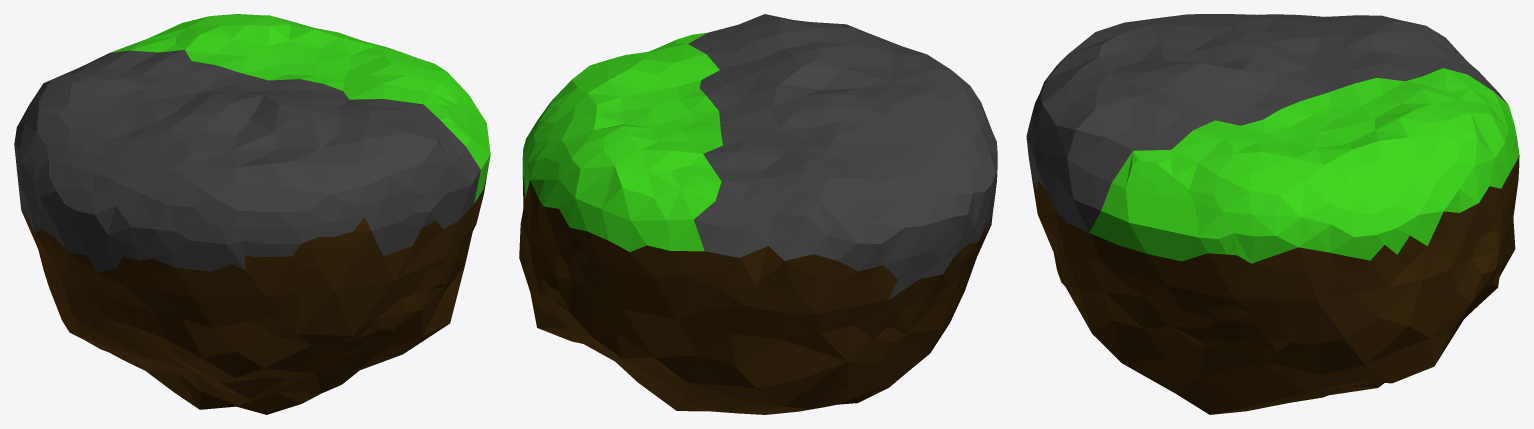
The model's file is Stage3.fbx.
The picture shows the model from 3 angles, left to right: view 1: azimuth 30°, elevation 25°; view 2: azimuth 150°, elevation 25°; view 3: azimuth 270°, elevation 25°; orthographic projection. The views are drawn at different scales.
Visible parts, largest first — view 1: Icosphere; view 2: Icosphere; view 3: Icosphere.
Boxes of the visible parts, x1,y1,x2,y2 form: Icosphere: [14, 14, 490, 414]; Icosphere: [519, 14, 997, 414]; Icosphere: [1026, 14, 1519, 414].
Size of the model in its own units: 12328 by 8703 by 12171.
